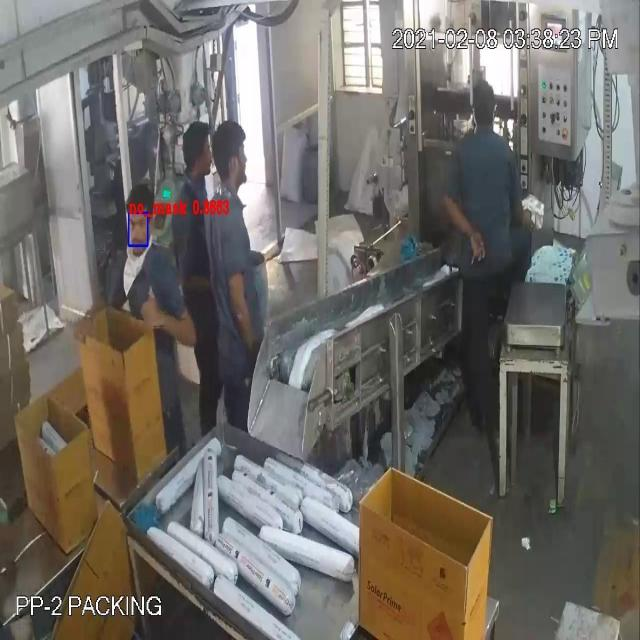No_Gloves: (38, 71, 464, 324)
